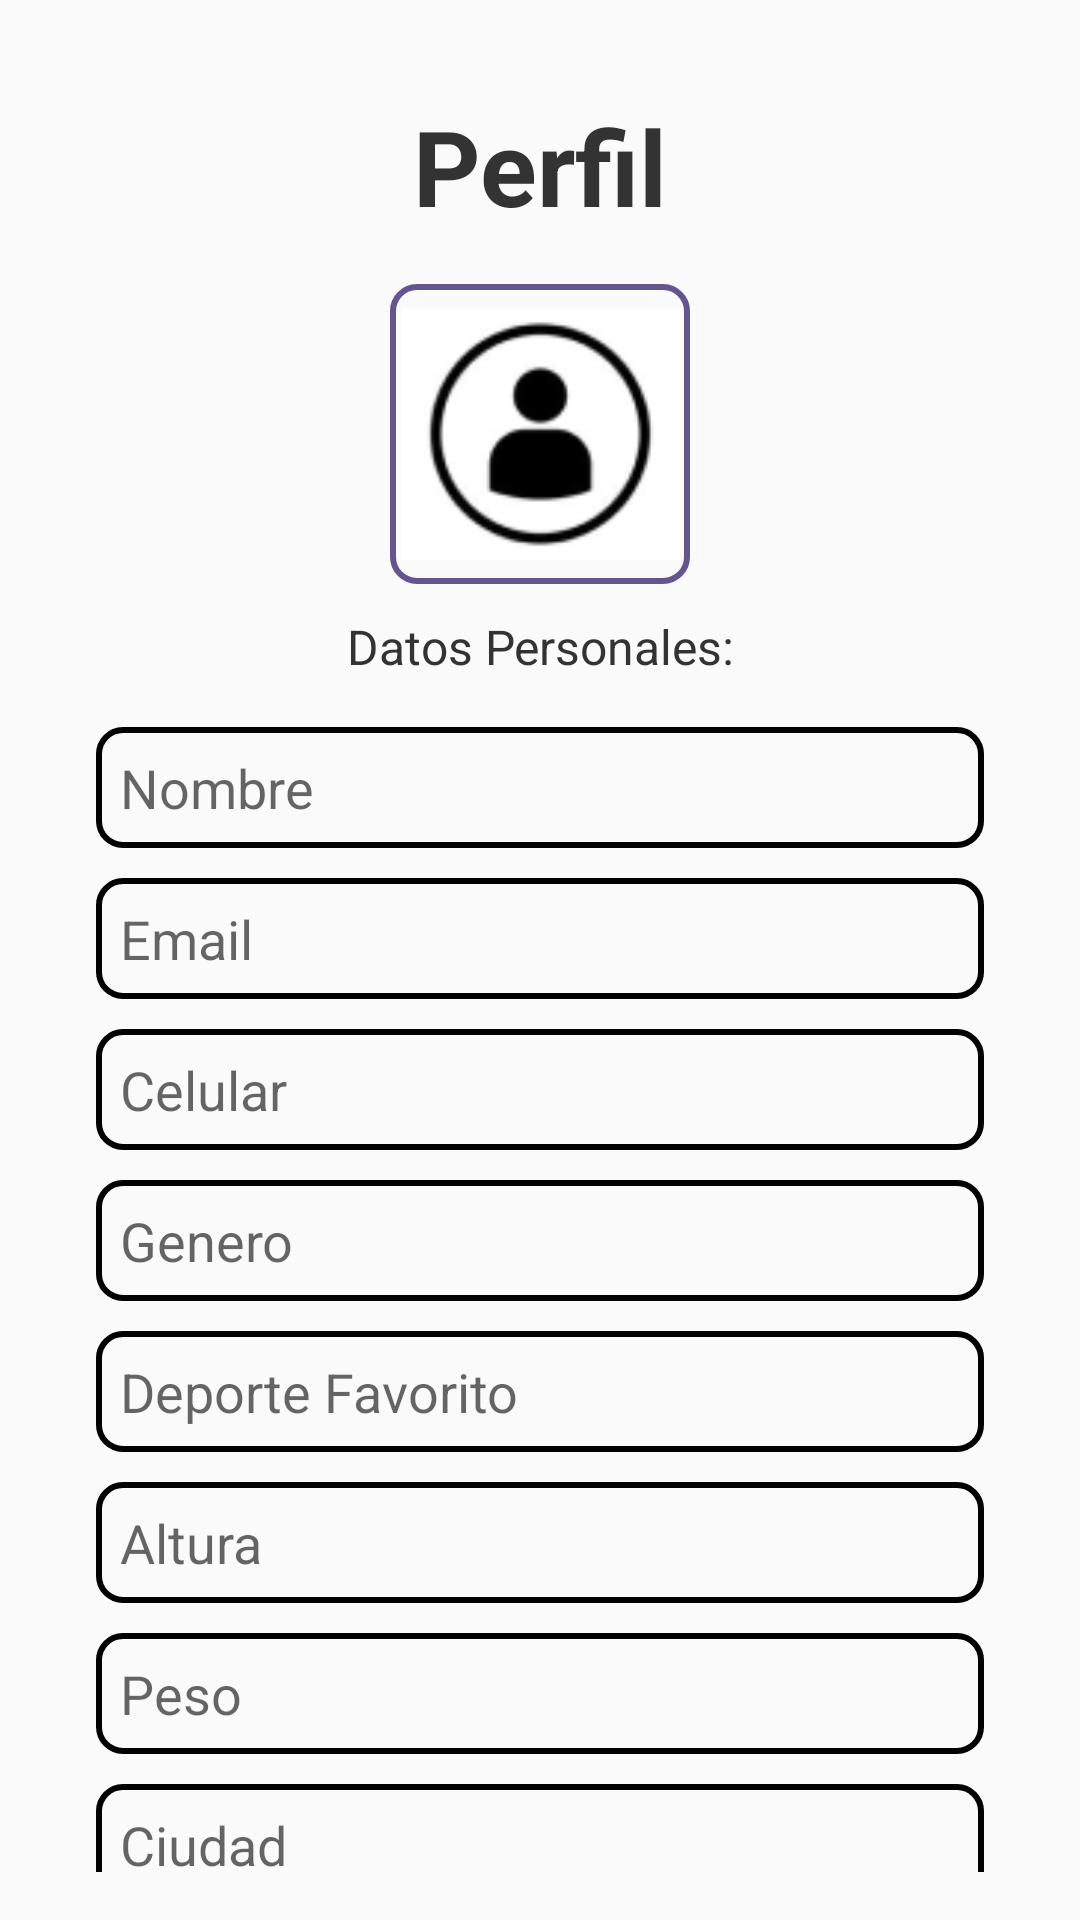

Screen size 1080x1920. Icon name, then its center in pixels as [x,y]:
Imagen del usuario: [540,434]
